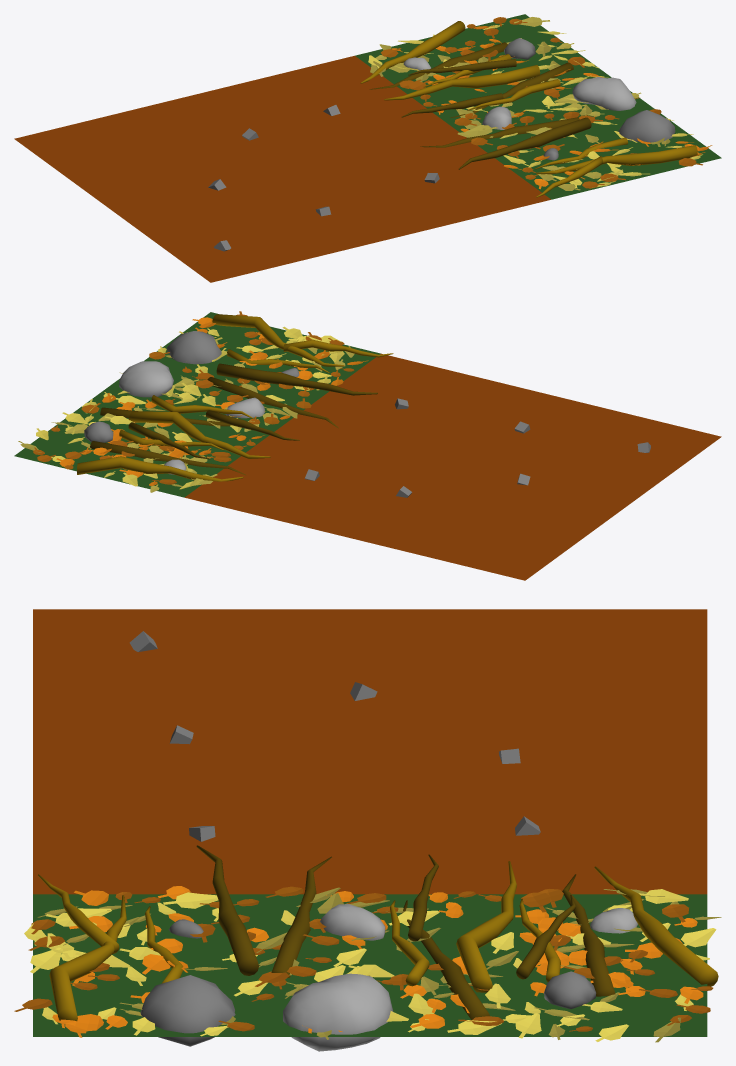
The model's file is sol map sombreD2.fbx.
3 renders of one model, top to bottom at view 1: azimuth 30°, elevation 25°; view 2: azimuth 150°, elevation 25°; view 3: azimuth 270°, elevation 25°, orthographic. The views are drawn at different scales.
Parts seen in each view (by area): view 1: sol sombre droite2; view 2: sol sombre droite2; view 3: sol sombre droite2.
Part boxes in pixels (x1,y1,x2,y2): sol sombre droite2: [14, 14, 721, 282]; sol sombre droite2: [14, 311, 721, 580]; sol sombre droite2: [14, 609, 721, 1051].
Size of the model in its own units: 306 by 19.88 by 210.
